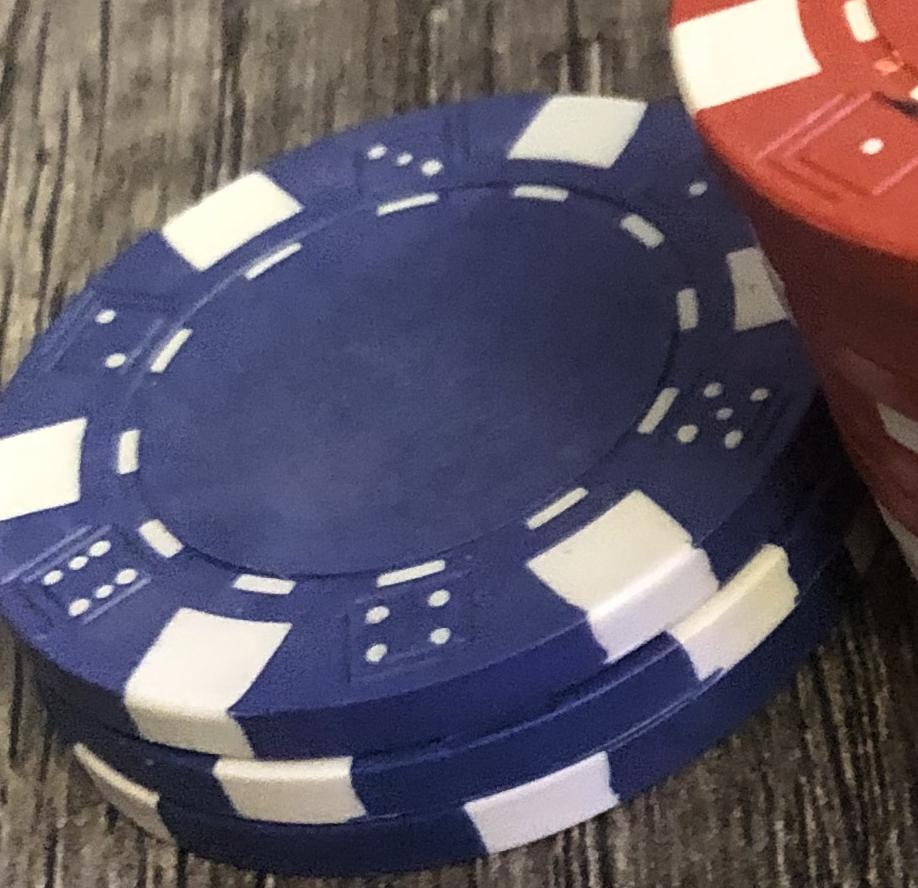Chip: (1, 1, 918, 888)
